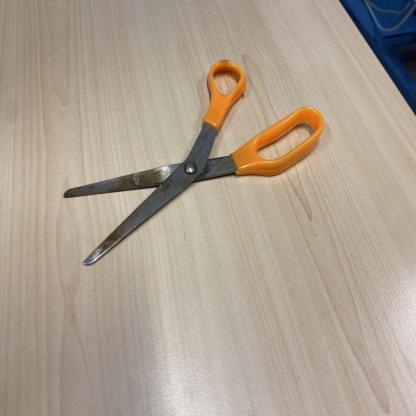scissors: (63, 58, 326, 268)
